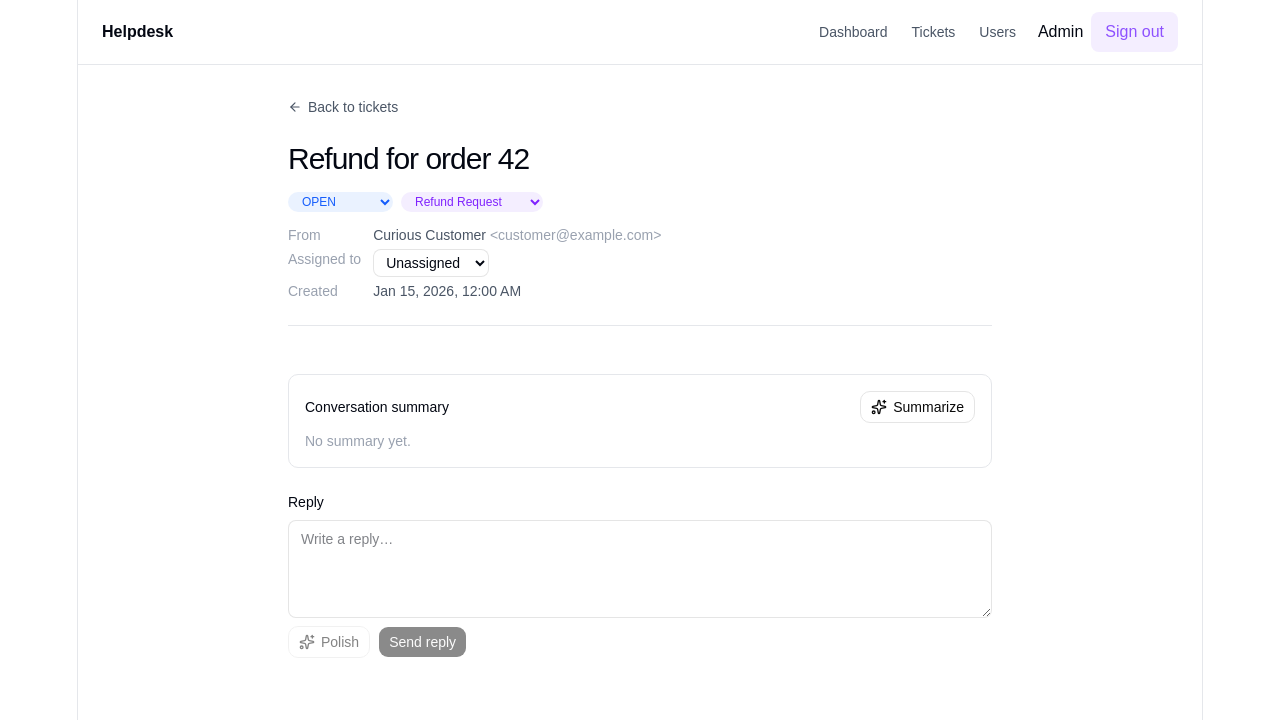
Test: TicketDetailPage › shows an error message when updating the ticket fails
Expected: the heading "Refund for order 42" is shown, left=288, top=142, right=529, bottom=175
Select "CLOSED" in the 1st dropdown named "Status": (340, 202) left=288, top=192, right=393, bottom=212
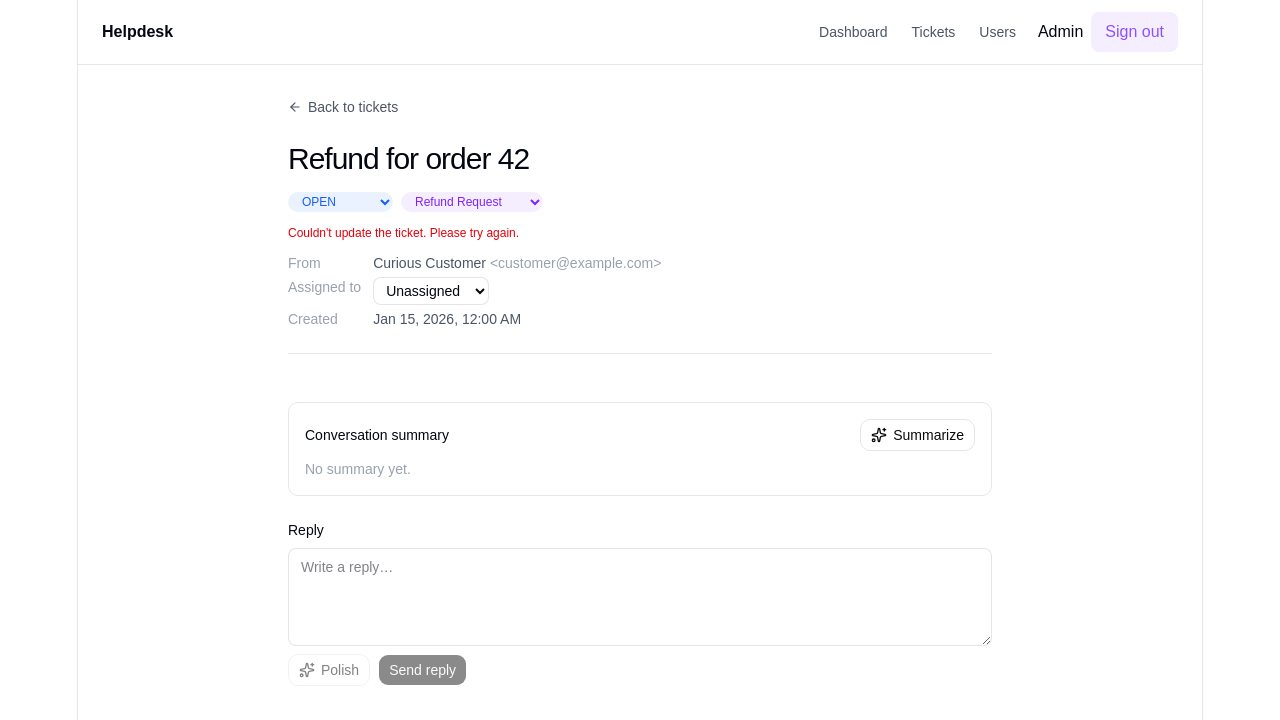
Now the text "Couldn't update the ticket. Please try again." is shown, box left=288, top=226, right=519, bottom=240
